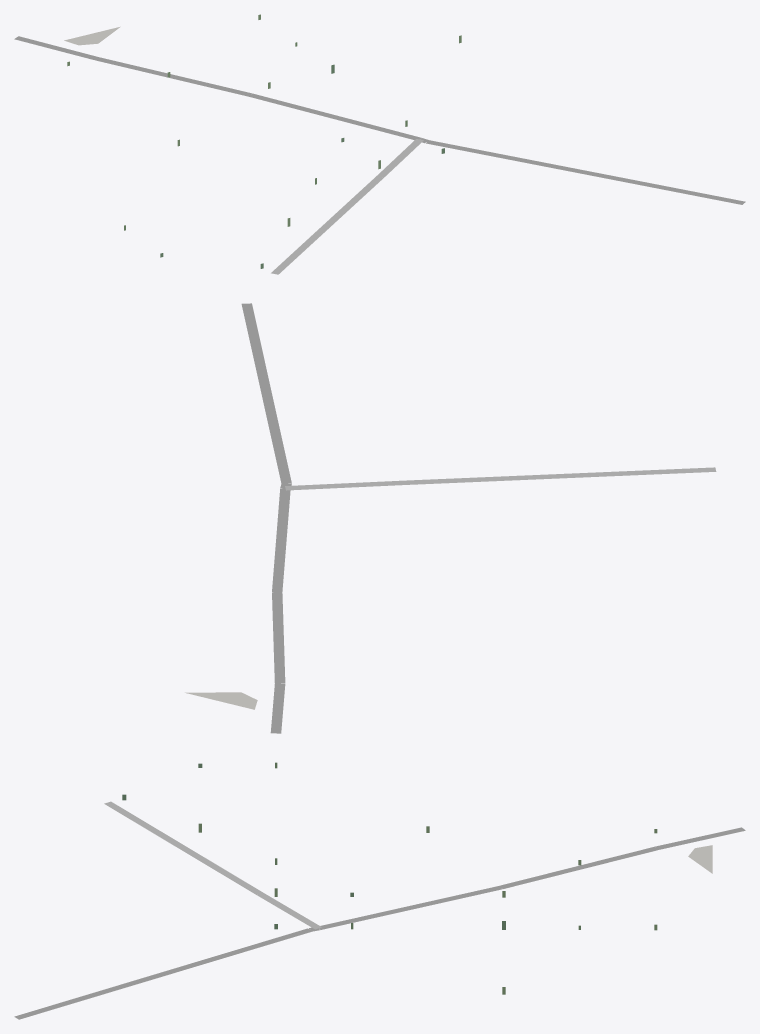
3 views of the same model, one above another, from view 1: azimuth 30°, elevation 25°; view 2: azimuth 150°, elevation 25°; view 3: azimuth 270°, elevation 25° (orthographic). The views are drawn at different scales.
Size of the model in its own units: 470 by 9.25 by 578.
